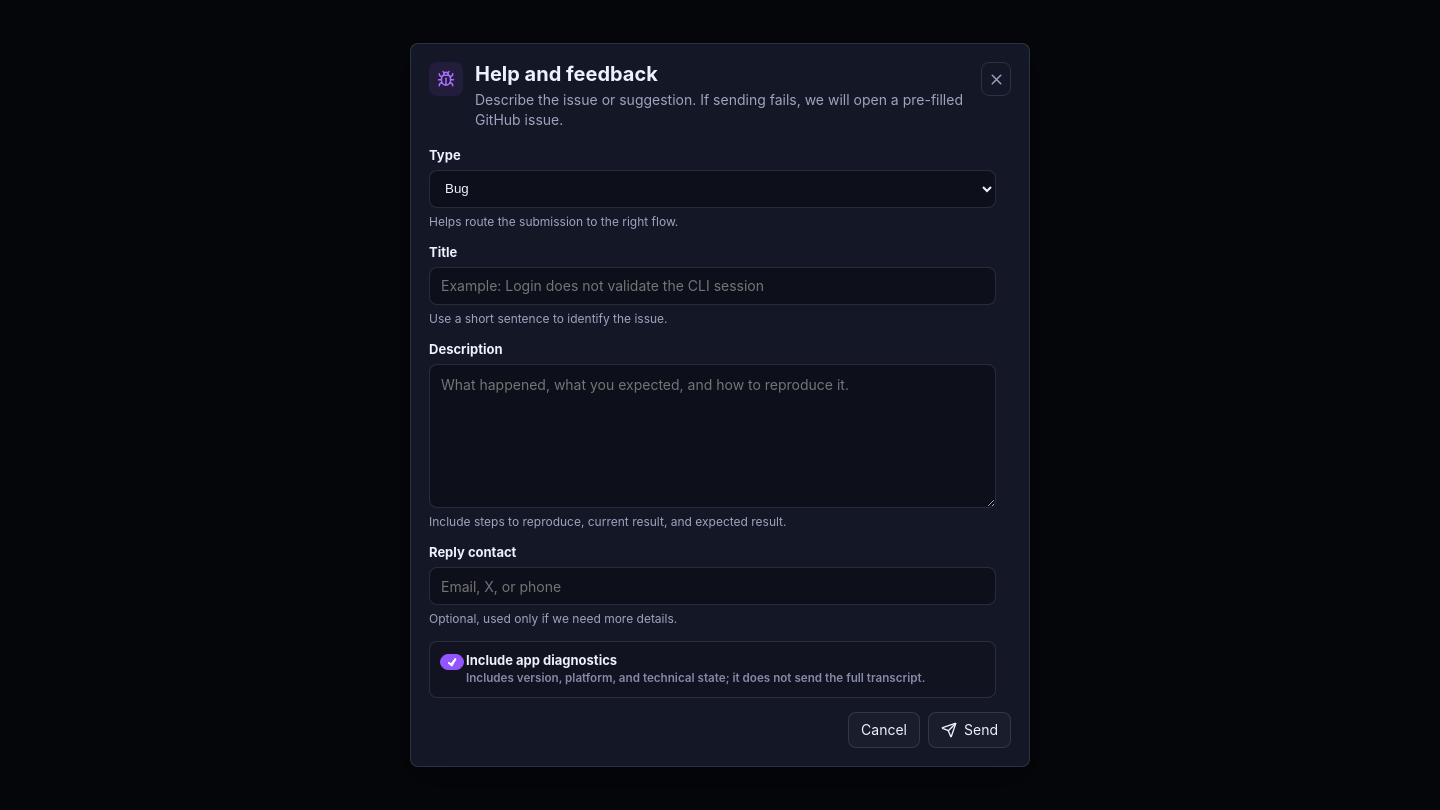
Scenario: FeedbackDialog — fallback to GitHub issue (code-driven, provider-neutral) › keeps an unknown result code provider-neutral in en-US
The image size is (1440, 810).
Type "Something broke" into the field labelled "Title" at (712,286), box x1=429 y1=267 x2=996 y2=305
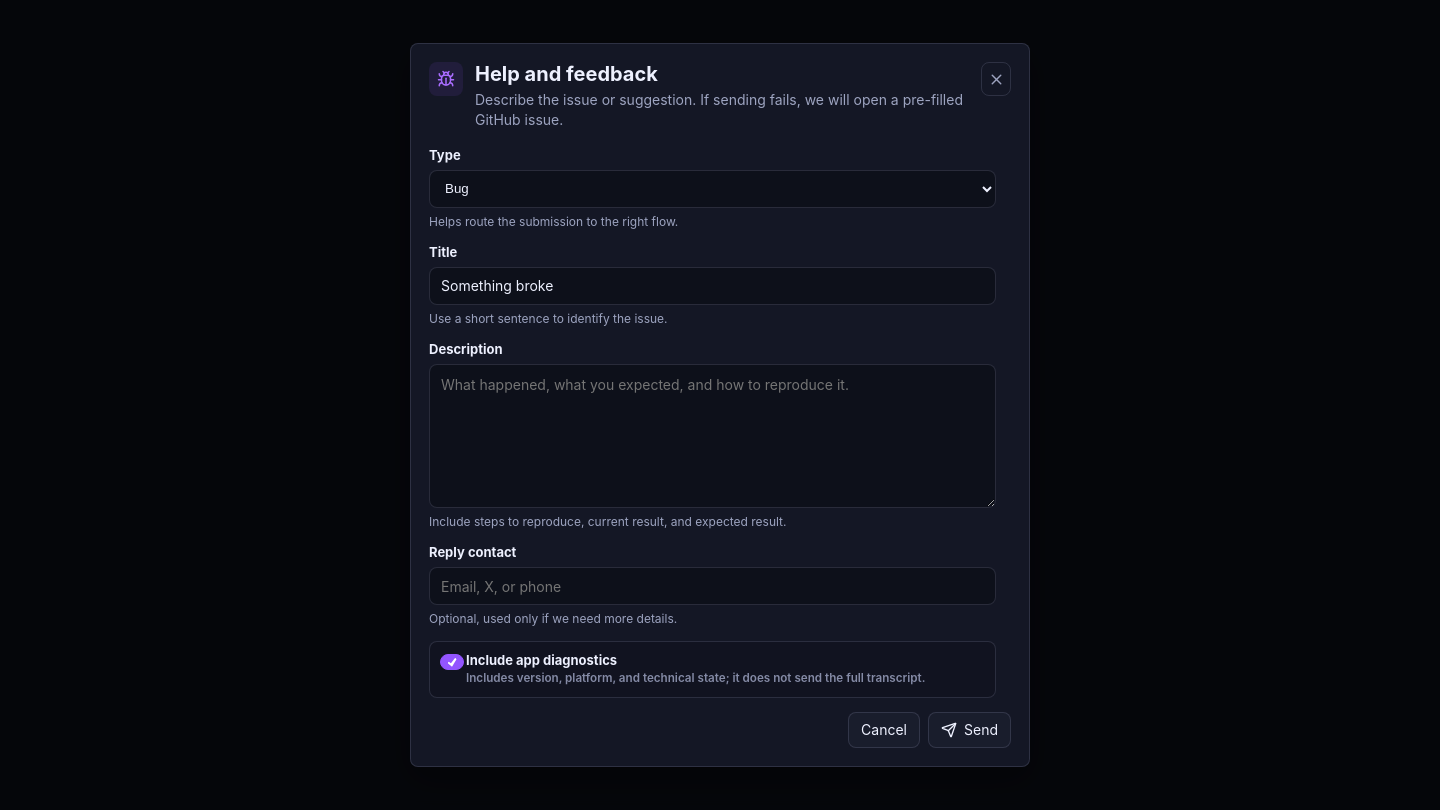
Type "It failed in a reproducible way" into the text box labelled "Description" at (712,436), box x1=429 y1=364 x2=996 y2=508
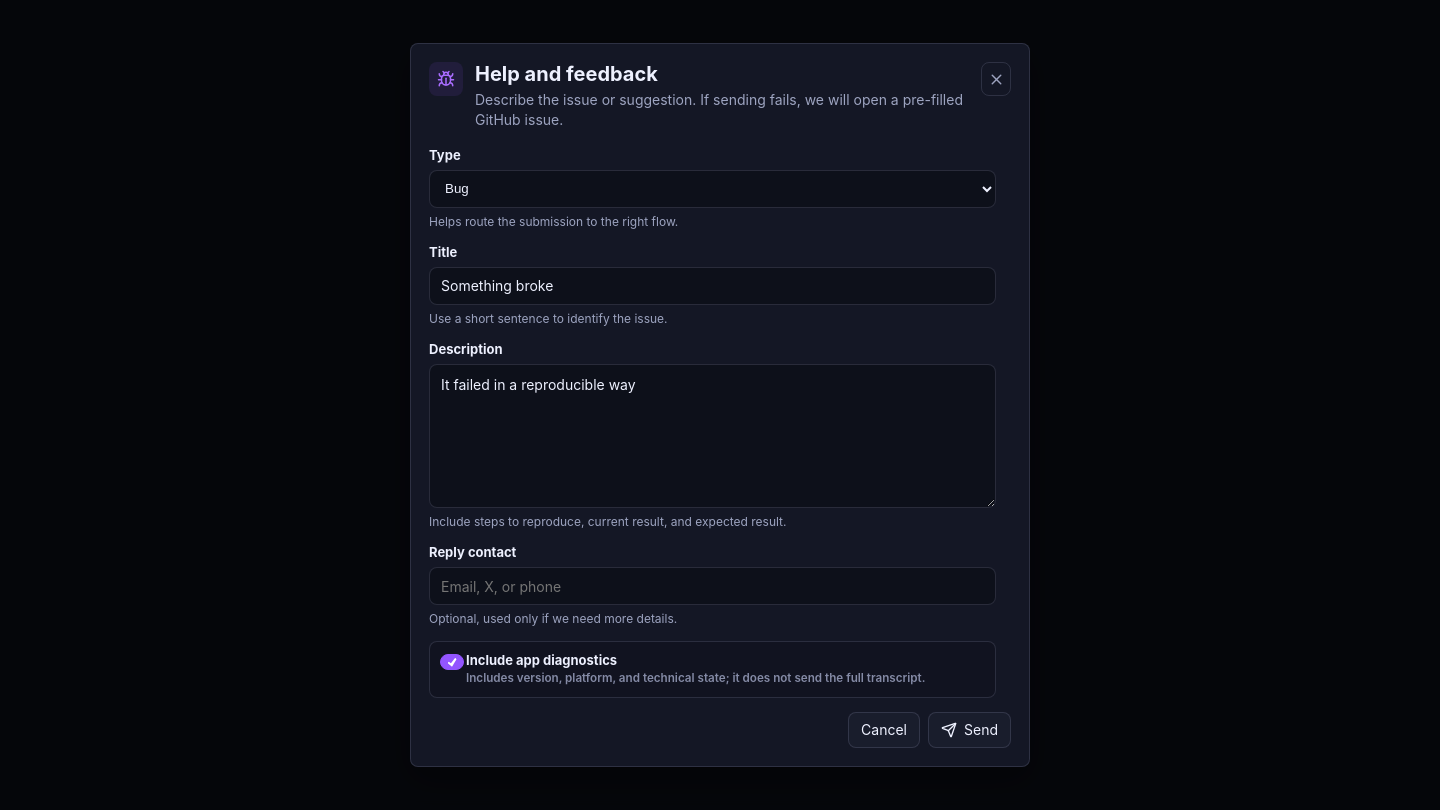
Click the button "Send" at (970,730), box x1=928 y1=712 x2=1011 y2=748
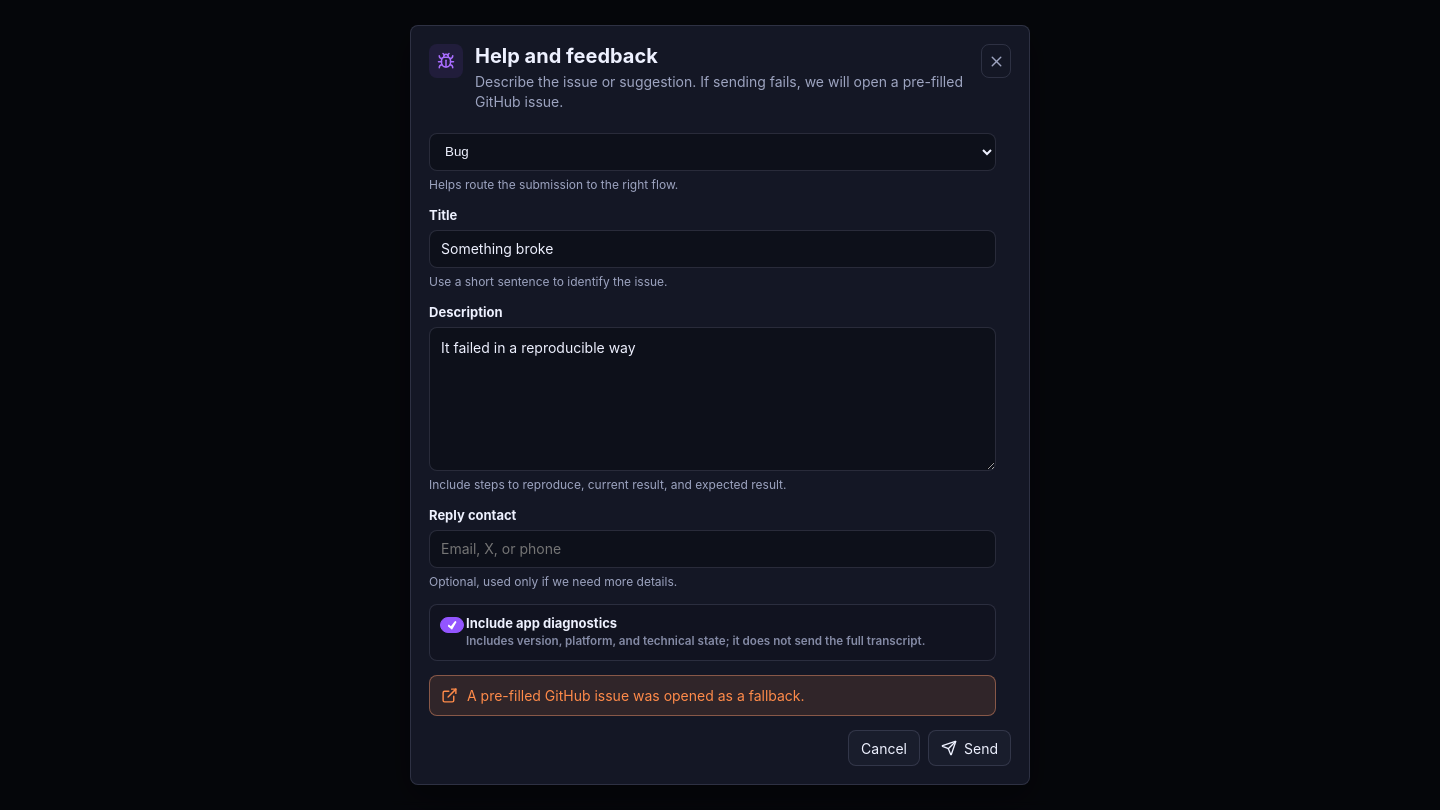
Expected: the text "A pre-filled GitHub issue was opened as a fallback." is shown, x1=467 y1=686 x2=805 y2=706
